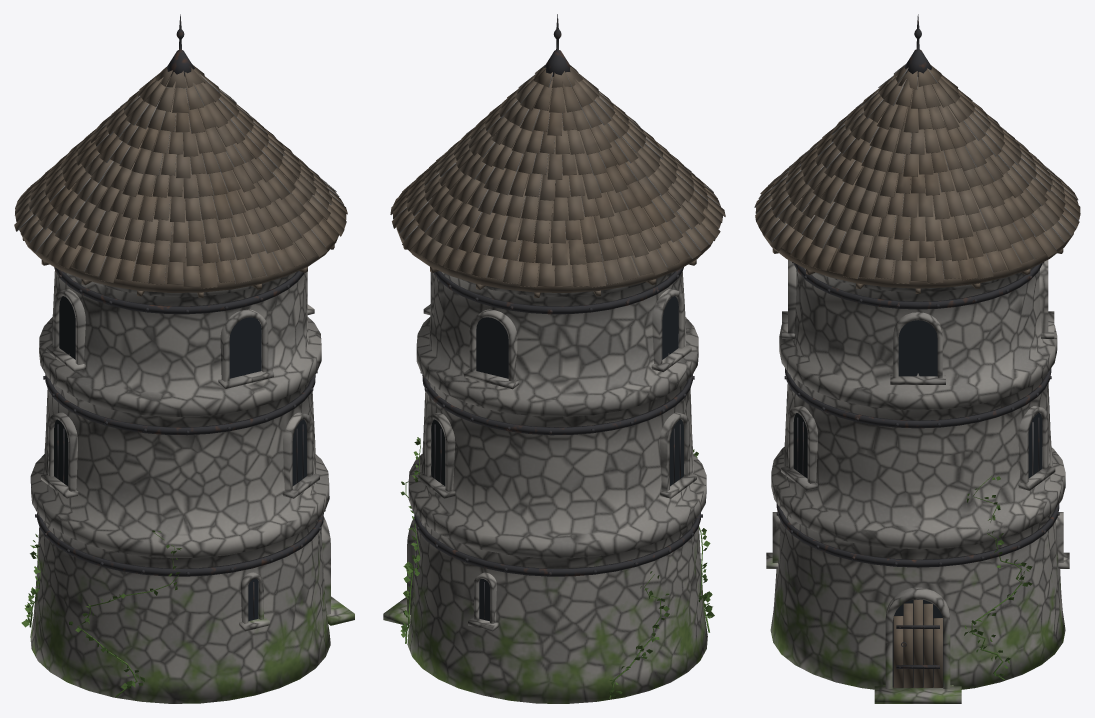
Rendered from nordic_watchtower.glb.
The picture shows the model from 3 angles, left to right: view 1: azimuth 30°, elevation 25°; view 2: azimuth 150°, elevation 25°; view 3: azimuth 270°, elevation 25°; orthographic projection.
Parts seen in each view (by area): view 1: NordicWatchtower; view 2: NordicWatchtower; view 3: NordicWatchtower.
Boxes of the visible parts, bbox=[...] form: NordicWatchtower: bbox=[14, 14, 354, 703]; NordicWatchtower: bbox=[383, 14, 725, 703]; NordicWatchtower: bbox=[754, 14, 1080, 703].
Size of the model in its own units: 7.66 by 15.45 by 7.41.
5 materials, 5 textured.
